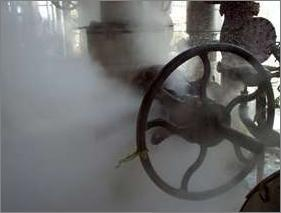smoke: (1, 26, 140, 184)
